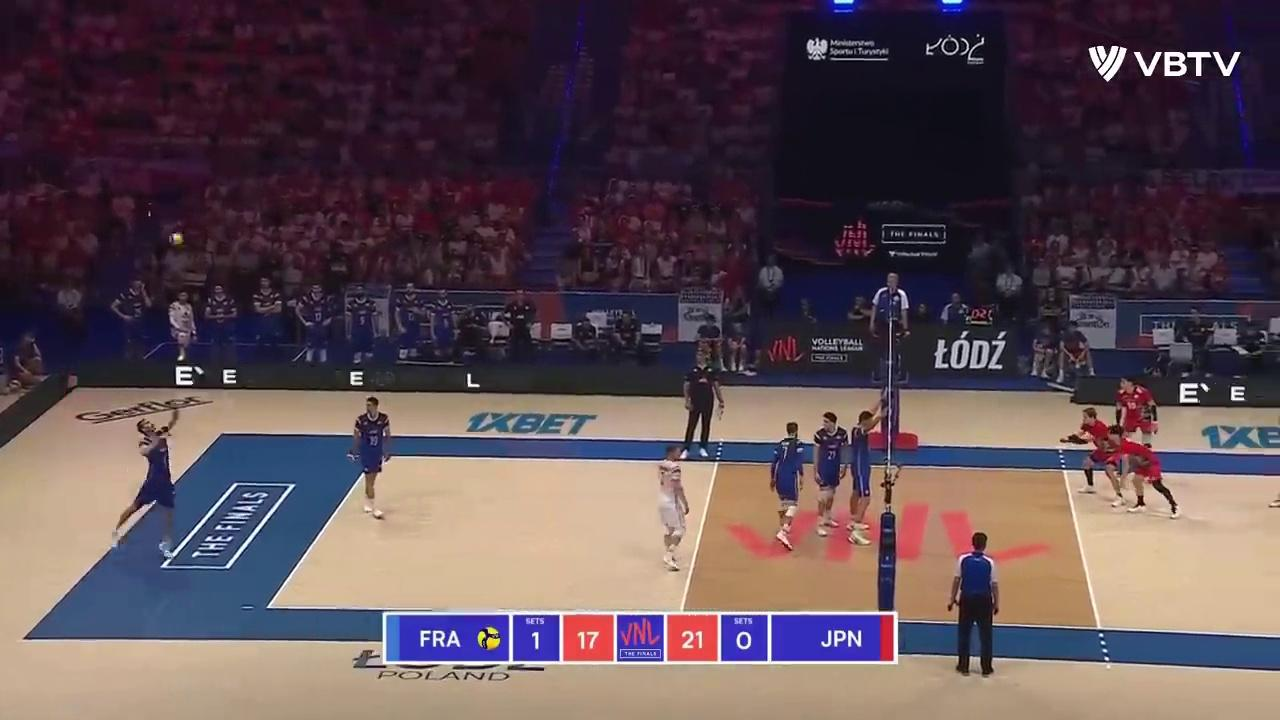ball: (167, 233, 182, 245)
